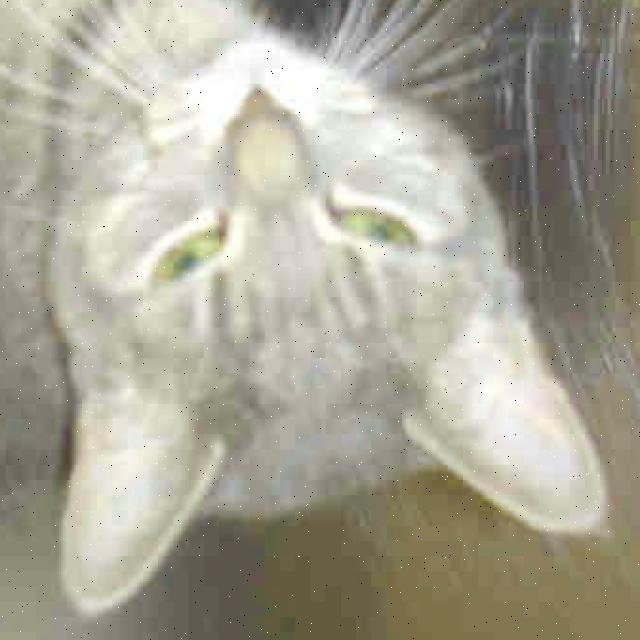Cat: (11, 0, 618, 633)
